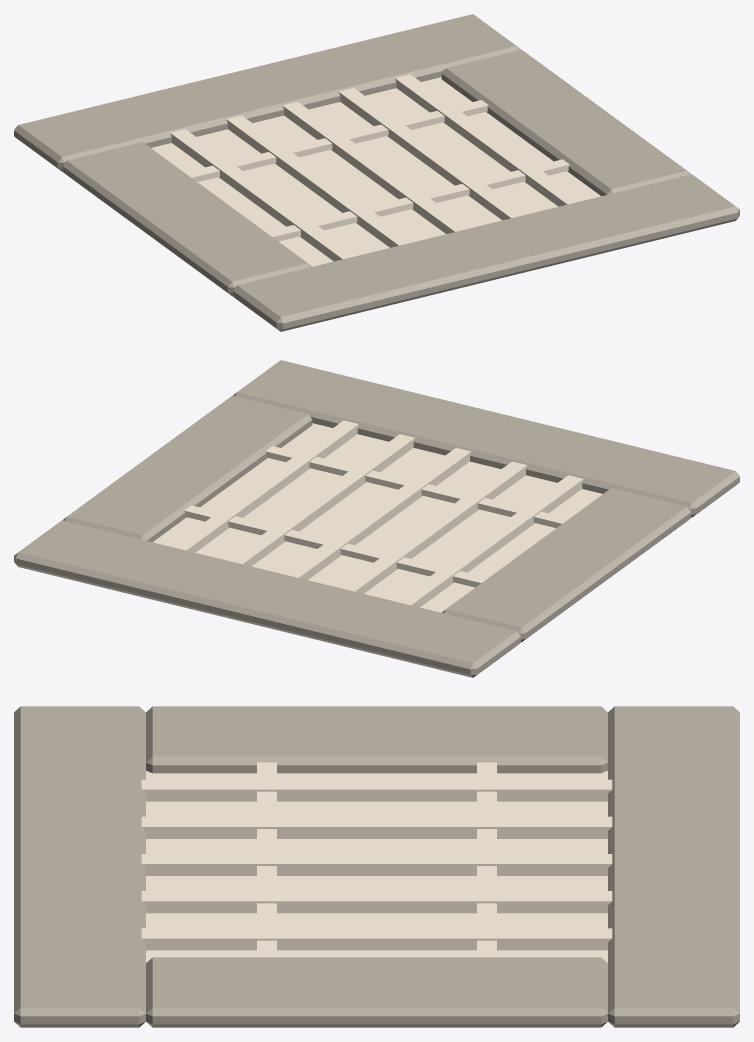
The model's file is SM_VKI_Overlay_DrainGrate.fbx.
The picture shows the model from 3 angles, top to bottom: view 1: azimuth 30°, elevation 25°; view 2: azimuth 150°, elevation 25°; view 3: azimuth 270°, elevation 25°; orthographic projection. The views are drawn at different scales.
Visible parts, largest first — view 1: SM_VKI_Overlay_DrainGrate.001; view 2: SM_VKI_Overlay_DrainGrate.001; view 3: SM_VKI_Overlay_DrainGrate.001.
Part boxes in pixels (<box>): SM_VKI_Overlay_DrainGrate.001: <box>14,14,739,331</box>; SM_VKI_Overlay_DrainGrate.001: <box>14,360,739,677</box>; SM_VKI_Overlay_DrainGrate.001: <box>14,706,739,1027</box>.
Size of the model in its own units: 0.66 by 0.02 by 0.66.
